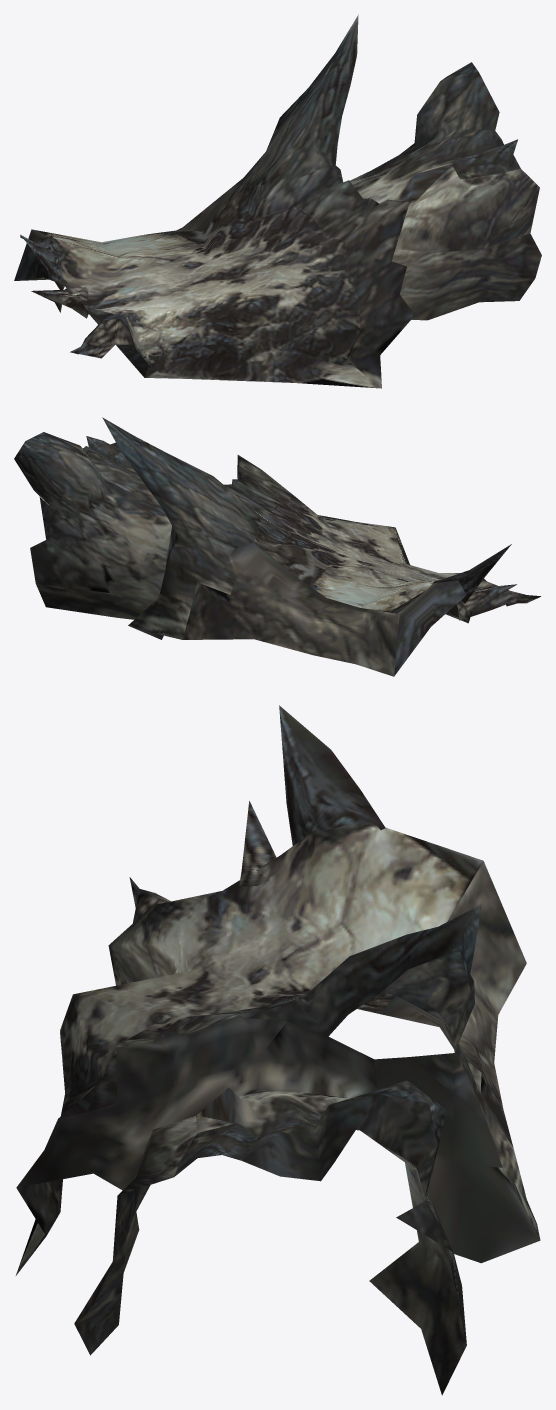
File: S_Build_Desert129.FBX
3 renders of one model, top to bottom at view 1: azimuth 30°, elevation 25°; view 2: azimuth 150°, elevation 25°; view 3: azimuth 270°, elevation 25°, orthographic. The views are drawn at different scales.
Visible parts, largest first — view 1: S_Build_Desert129; view 2: S_Build_Desert129; view 3: S_Build_Desert129.
Part boxes in pixels (x1=…): S_Build_Desert129: x1=14, y1=14, x2=541, y2=388; S_Build_Desert129: x1=14, y1=417, x2=540, y2=676; S_Build_Desert129: x1=16, y1=705, x2=540, y2=1395.
Size of the model in its own units: 973 by 472 by 483.
1 material, 1 textured.
